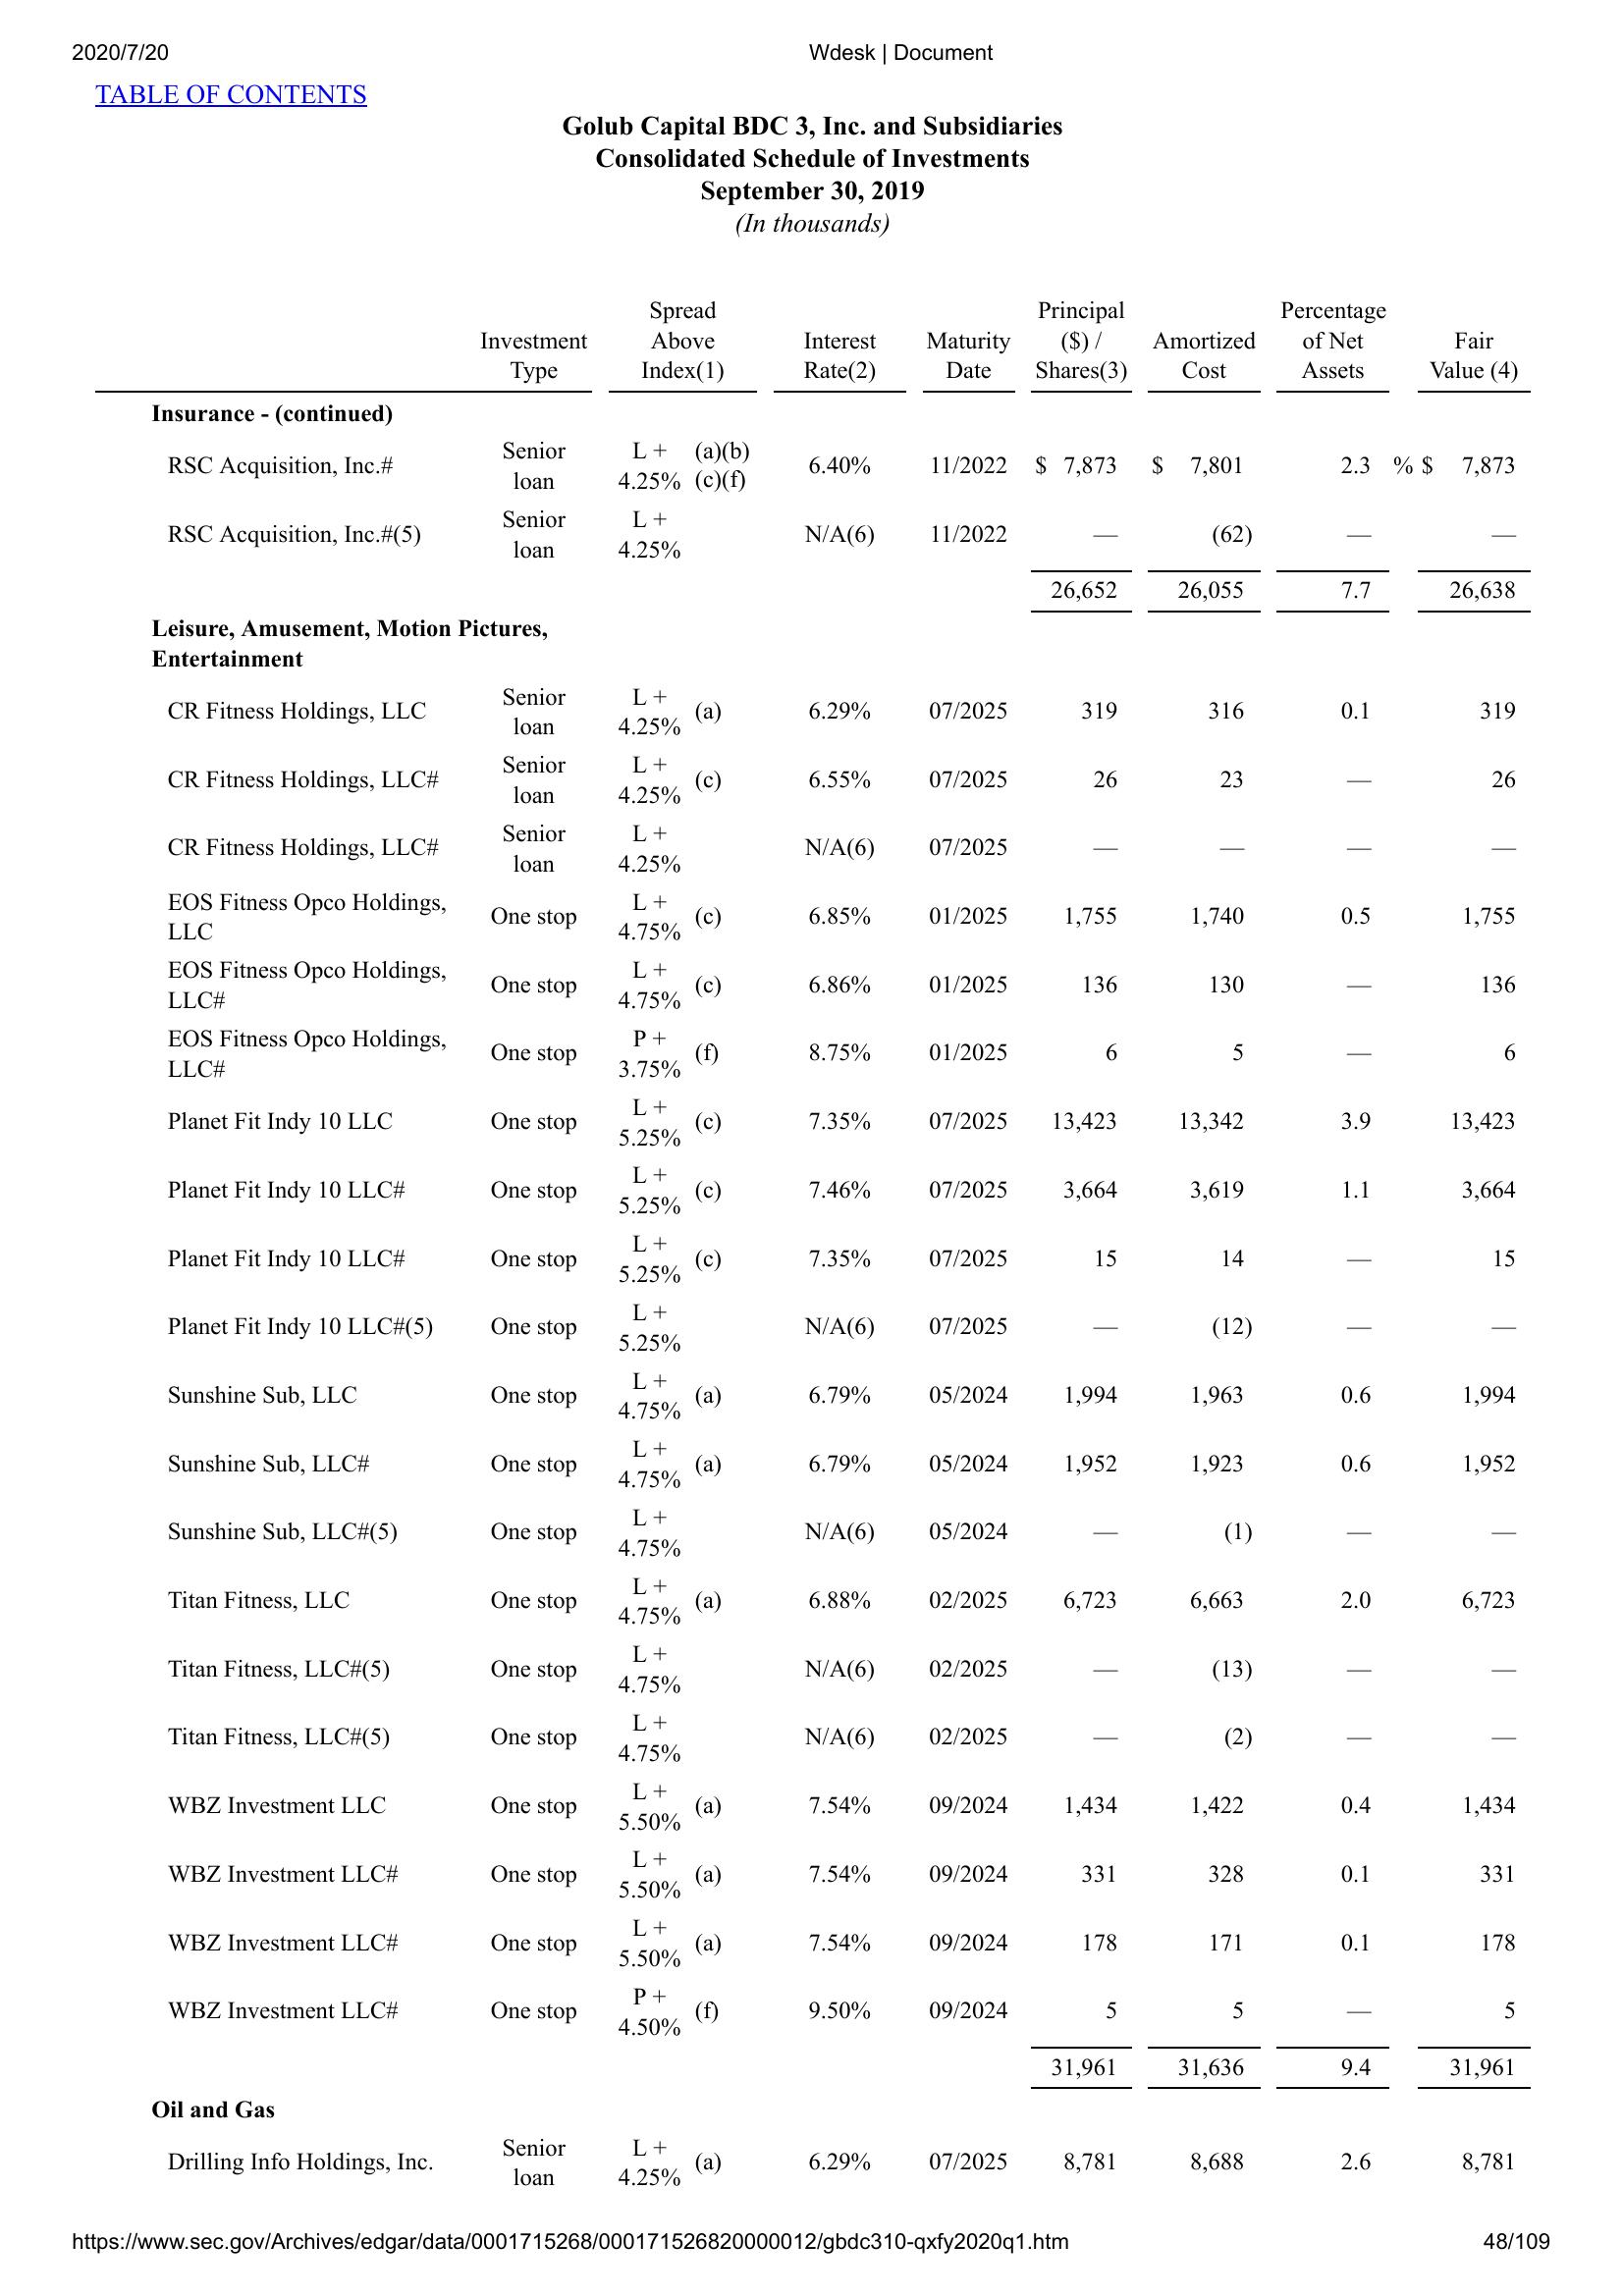table: (90, 284, 1544, 2192)
